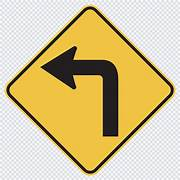left: (5, 4, 176, 174)
